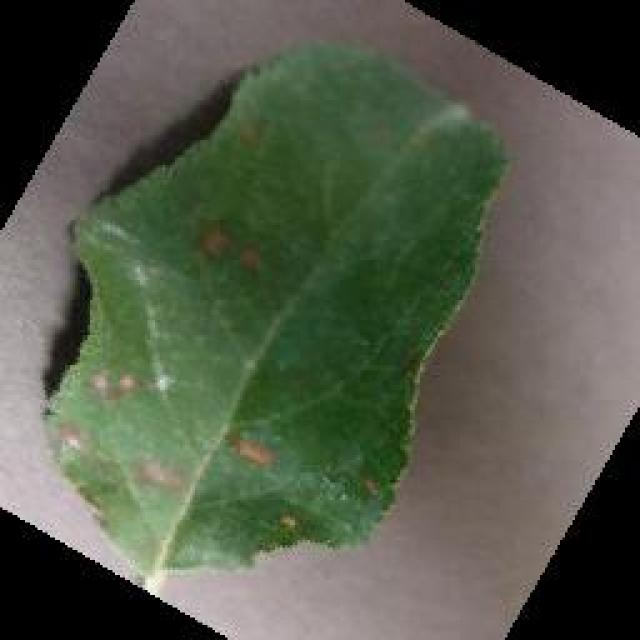apple cedar apple rust: (38, 35, 510, 587)
